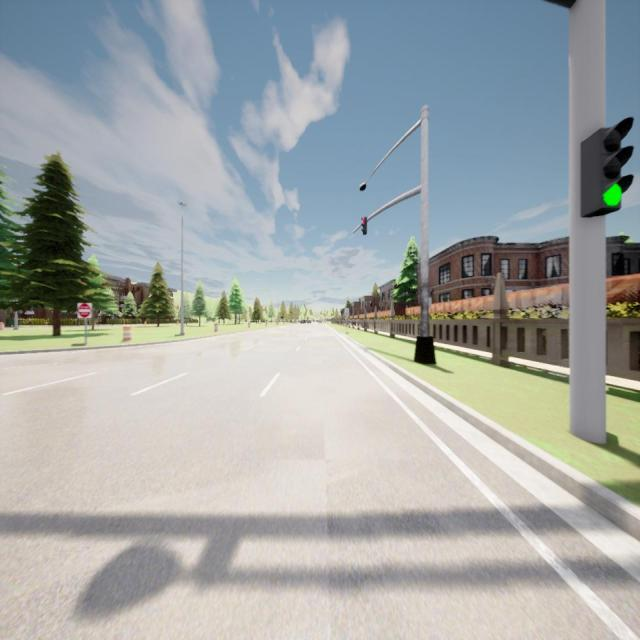Traffic_Signs: (77, 303, 93, 319), (344, 307, 350, 317)
Vehicle: (318, 318, 322, 324), (300, 320, 306, 324), (307, 319, 311, 323)
traffic_light: (581, 117, 633, 217), (361, 217, 367, 235)
